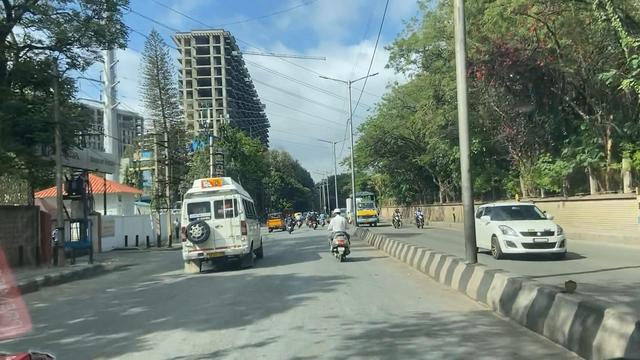HMV: (178, 176, 264, 269)
LMV: (327, 208, 353, 265)
